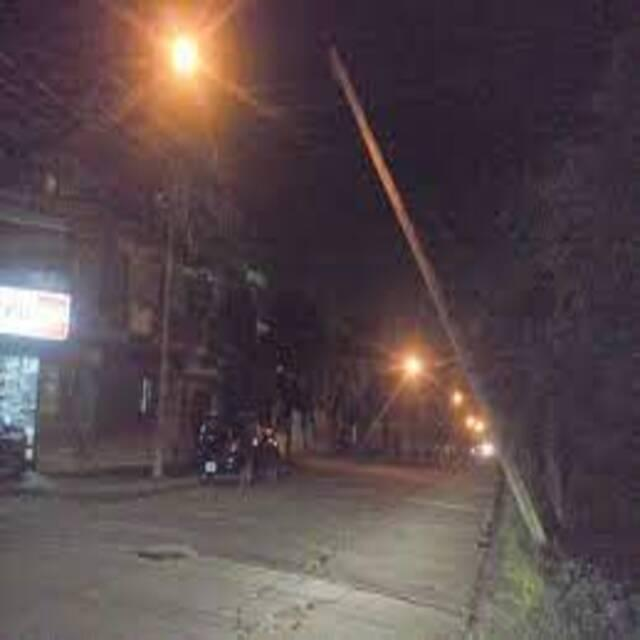Inclined Pole: (320, 42, 557, 557)
